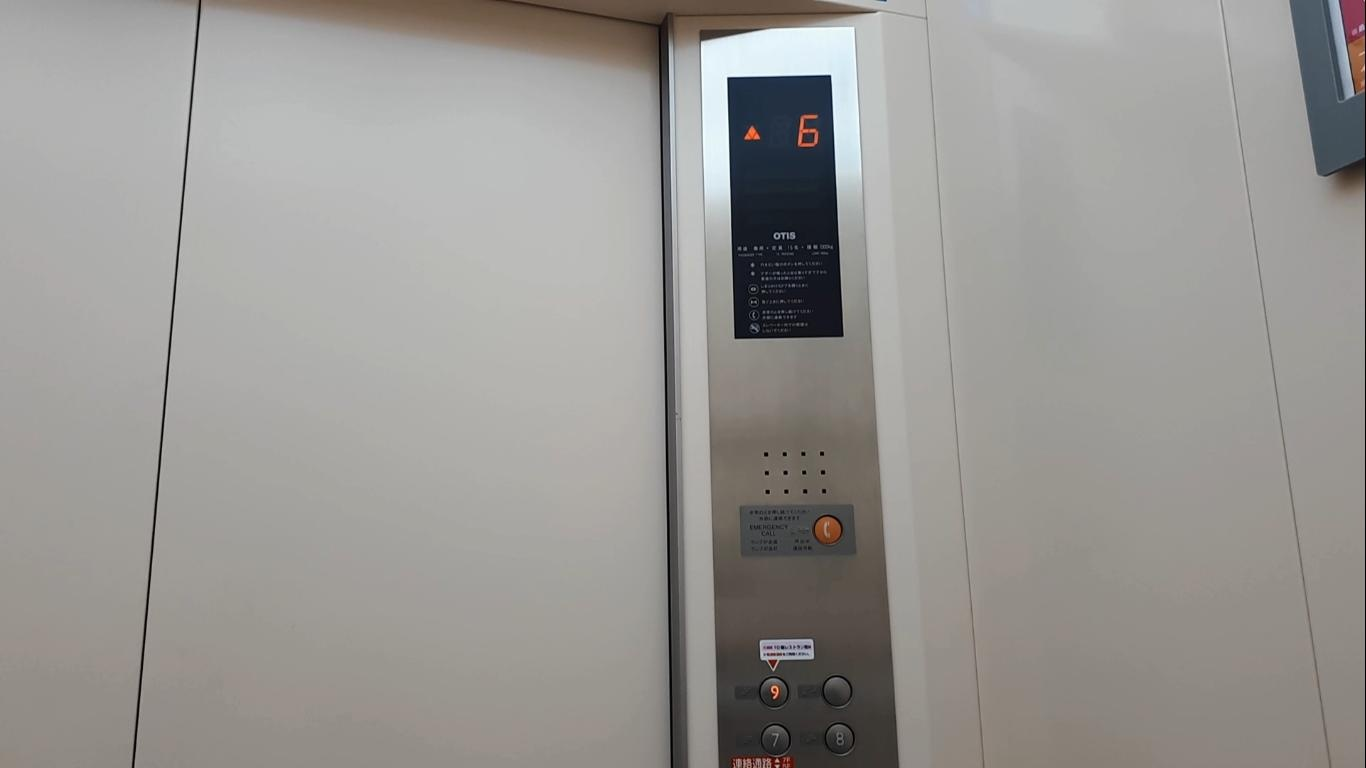7: (760, 723, 791, 757)
8: (824, 721, 855, 755)
9: (759, 675, 790, 709)
call: (813, 513, 844, 547)
empty: (822, 674, 853, 708)
led: (723, 70, 850, 344)
